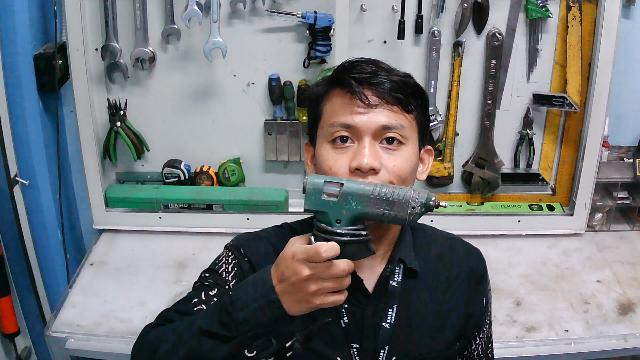gun_lem: (296, 170, 451, 273)
